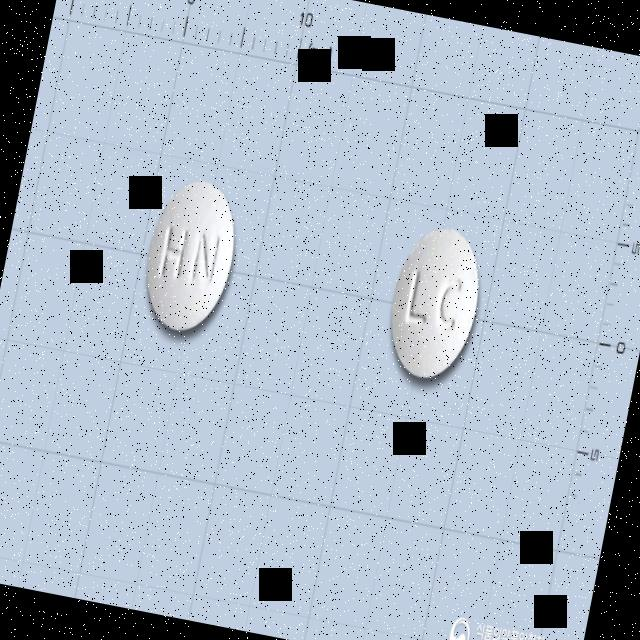Lenacin: (379, 218, 493, 386), (135, 172, 247, 339)
